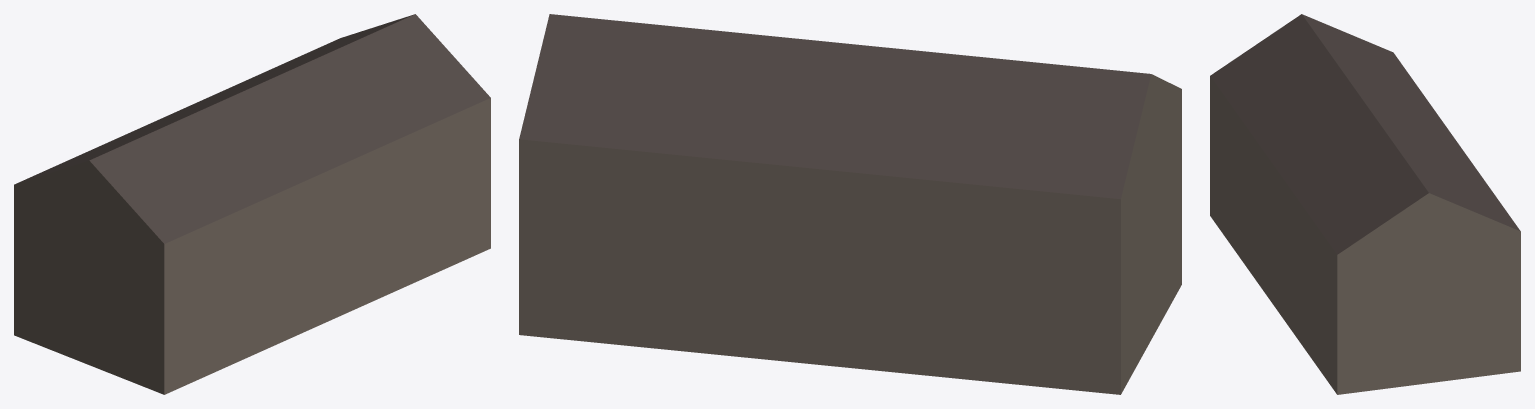
The picture shows the model from 3 angles, left to right: view 1: azimuth 30°, elevation 25°; view 2: azimuth 150°, elevation 25°; view 3: azimuth 270°, elevation 25°; orthographic projection. The views are drawn at different scales.
Visible parts, largest first — view 1: HP-w435452358; view 2: HP-w435452358; view 3: HP-w435452358.
Boxes of the visible parts, left/top/right/bottom form: HP-w435452358: left=14, top=14, right=490, bottom=394; HP-w435452358: left=519, top=14, right=1181, bottom=394; HP-w435452358: left=1210, top=14, right=1520, bottom=394.
Bounding box in the file's own units: 27.91 × 12.22 × 18.09.
